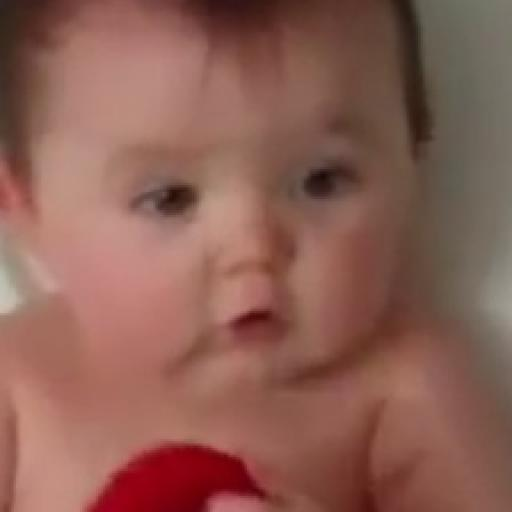Autism: (3, 0, 449, 425)
